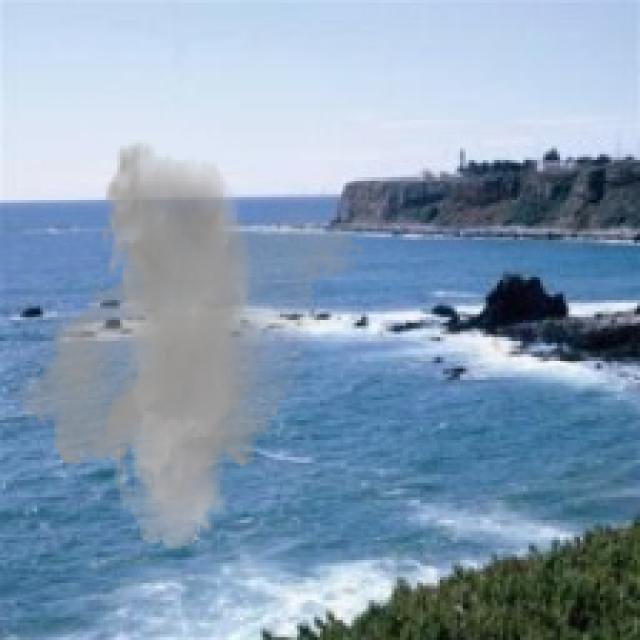smoke: (8, 140, 366, 551)
